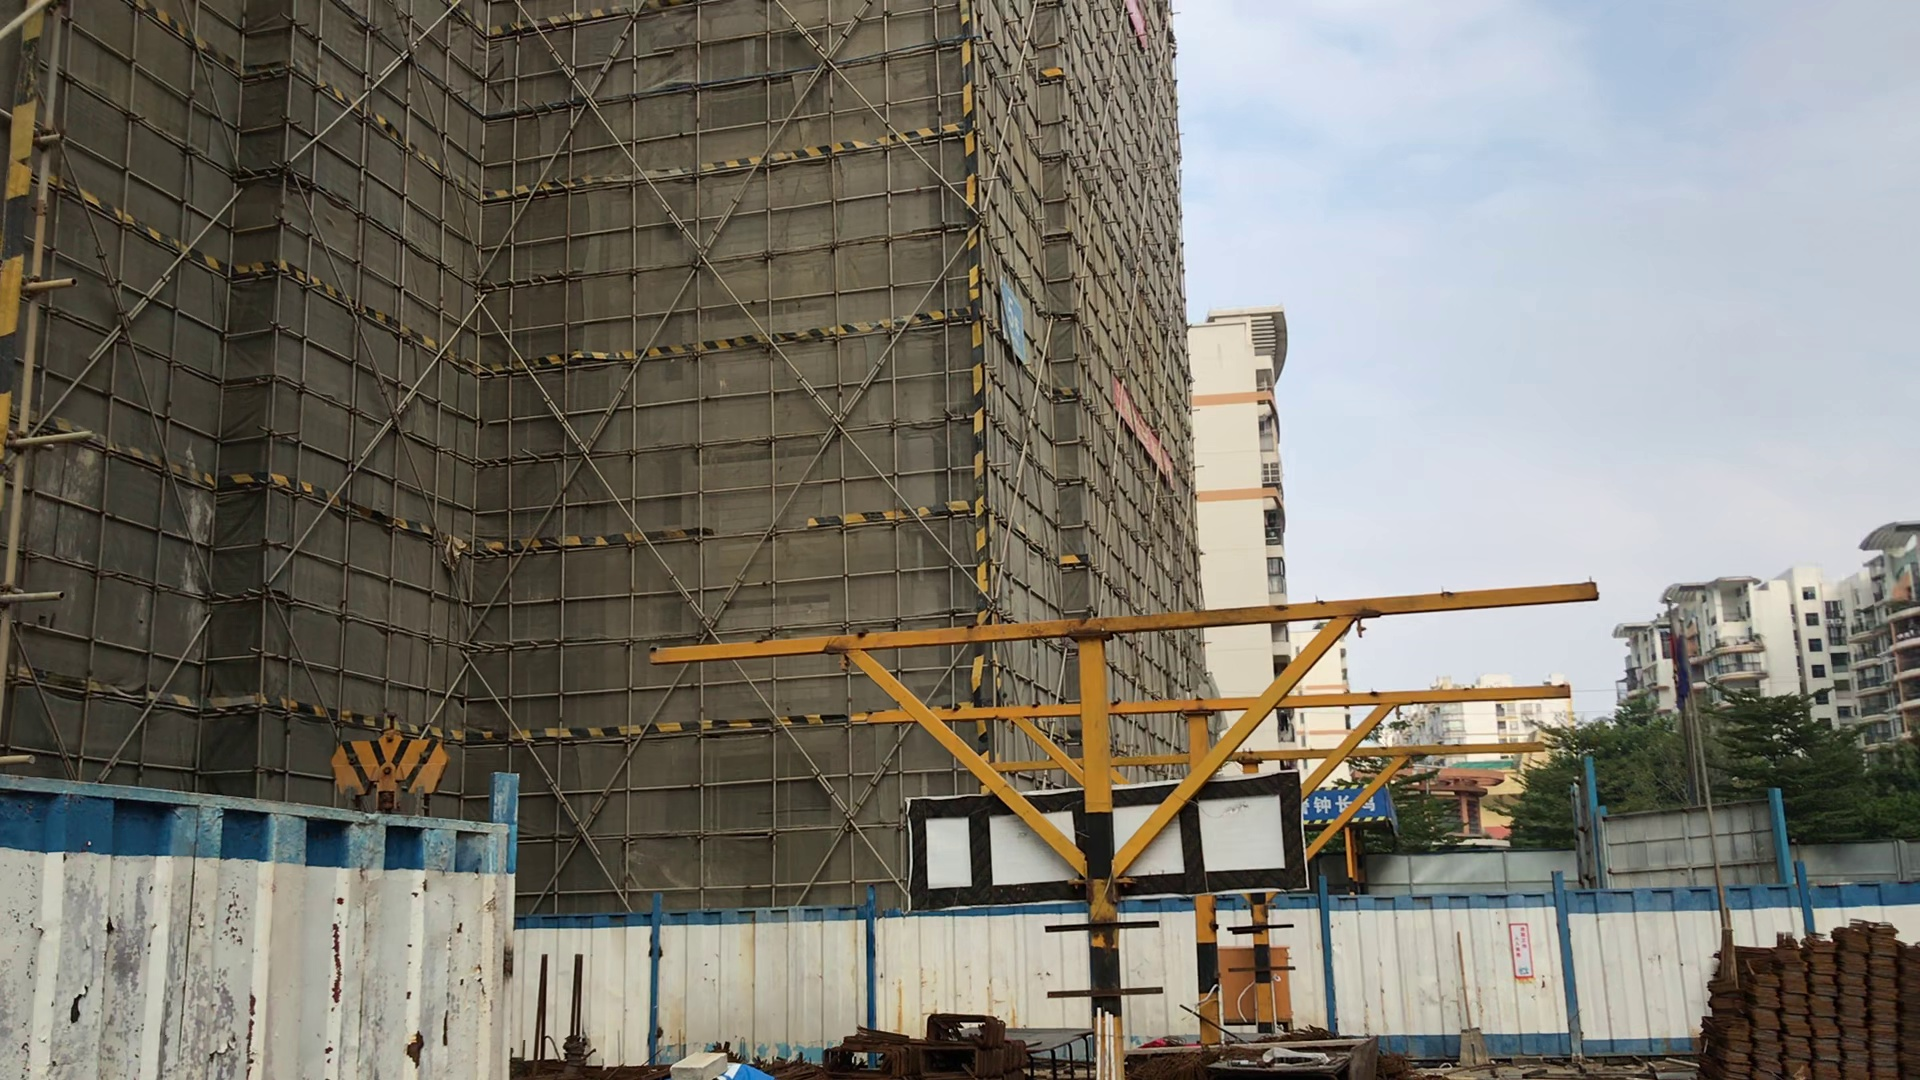hook: (320, 703, 462, 815)
slogan: (1284, 778, 1387, 820)
